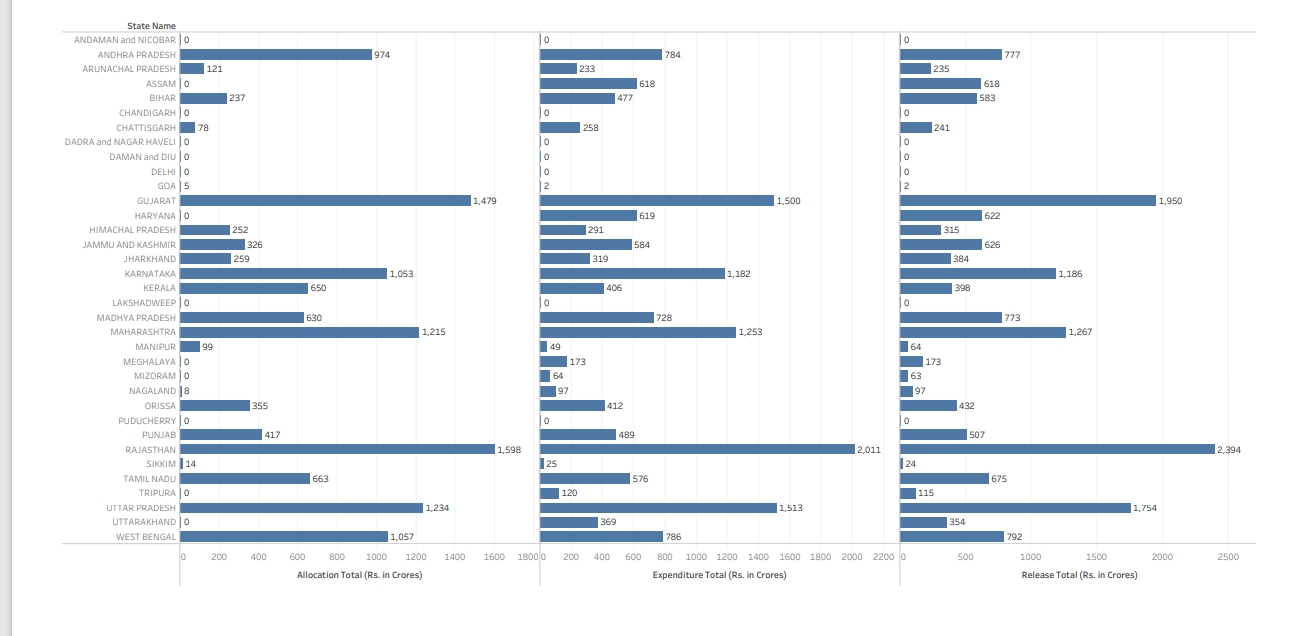

The page's visual inventory and layout, read from the dashboard file:
{"tool":"tableau","page":{"name":"Dashboard 1","canvas":[1654,1169],"ordinal":0},"visuals":[{"type":"worksheet","title":"Sheet 5","mark":"Automatic","rows":["Allocation Total (Rs. in Crores)"],"cols":["State Name"],"box":[27,12,1169,423]},{"type":"worksheet","title":"Sheet 5 (3)","mark":"Automatic","rows":["State Name"],"box":[1081,487,485,523]},{"type":"worksheet","title":"Sheet 5 (2)","mark":"Automatic","rows":["Allocation Total (Rs. in Crores)"],"cols":["State Name"],"box":[19,492,1012,508]}]}

Visuals, with their boxes on the page's 1654x1169 design canvas (x1, y1, x2, y2). These are canvas units, not pixel positions in the 1308x636 screenshot, which may show the page scaled, cropped or inside an application window:
"Sheet 5" worksheet: [left=27, top=12, right=1196, bottom=435]
"Sheet 5 (3)" worksheet: [left=1081, top=487, right=1566, bottom=1010]
"Sheet 5 (2)" worksheet: [left=19, top=492, right=1031, bottom=1000]
